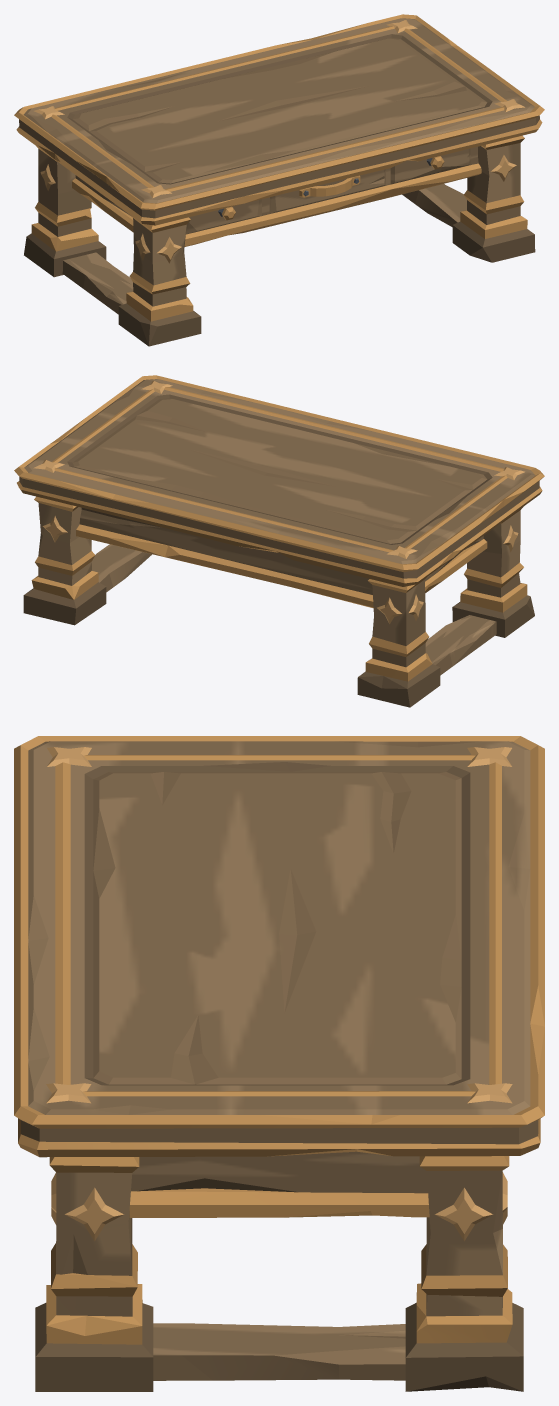
The model's file is SM_Prop_Desk_01.fbx.
3 views of the same model, one above another, from view 1: azimuth 30°, elevation 25°; view 2: azimuth 150°, elevation 25°; view 3: azimuth 270°, elevation 25° (orthographic). The views are drawn at different scales.
Visible parts, largest first — view 1: SM_Prop_Desk_01; view 2: SM_Prop_Desk_01; view 3: SM_Prop_Desk_01.
Boxes of the visible parts, box(x1,y1,x2,y2) form: SM_Prop_Desk_01: box(14, 14, 544, 346); SM_Prop_Desk_01: box(14, 375, 544, 707); SM_Prop_Desk_01: box(14, 736, 544, 1391).
Size of the model in its own units: 244 by 84.65 by 142.
